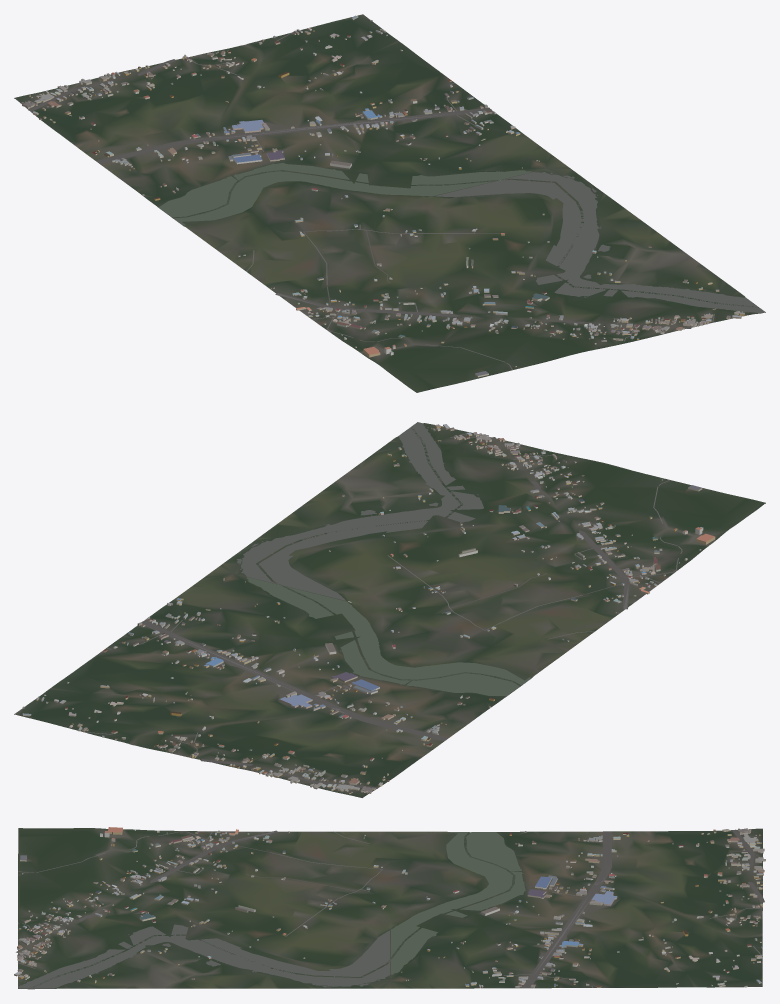
The picture shows the model from 3 angles, top to bottom: view 1: azimuth 30°, elevation 25°; view 2: azimuth 150°, elevation 25°; view 3: azimuth 270°, elevation 25°; orthographic projection. The views are drawn at different scales.
Visible parts, largest first — view 1: ground, water, buildings, roads; view 2: ground, water, buildings, roads; view 3: ground, water, buildings, roads.
Boxes of the visible parts, x1,y1,x2,y2 form: ground: (14, 14, 765, 392); water: (159, 162, 764, 312); buildings: (21, 15, 744, 377); roads: (28, 32, 714, 370); ground: (14, 423, 765, 797); water: (236, 422, 565, 696); buildings: (22, 424, 715, 793); roads: (83, 432, 682, 788); ground: (18, 828, 762, 989); water: (18, 832, 527, 988); buildings: (14, 827, 765, 988); roads: (16, 829, 764, 988).
Bounding box in the file's own units: 1411 × 38.84 × 2828.
